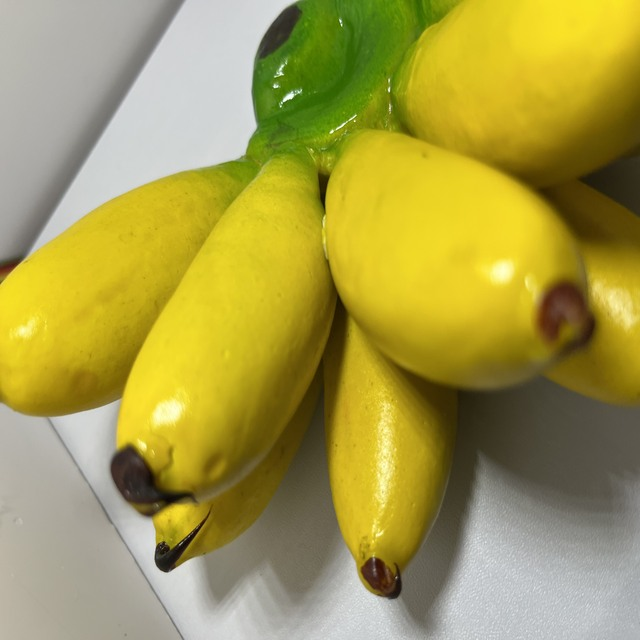Chuoi: (0, 0, 640, 611)
